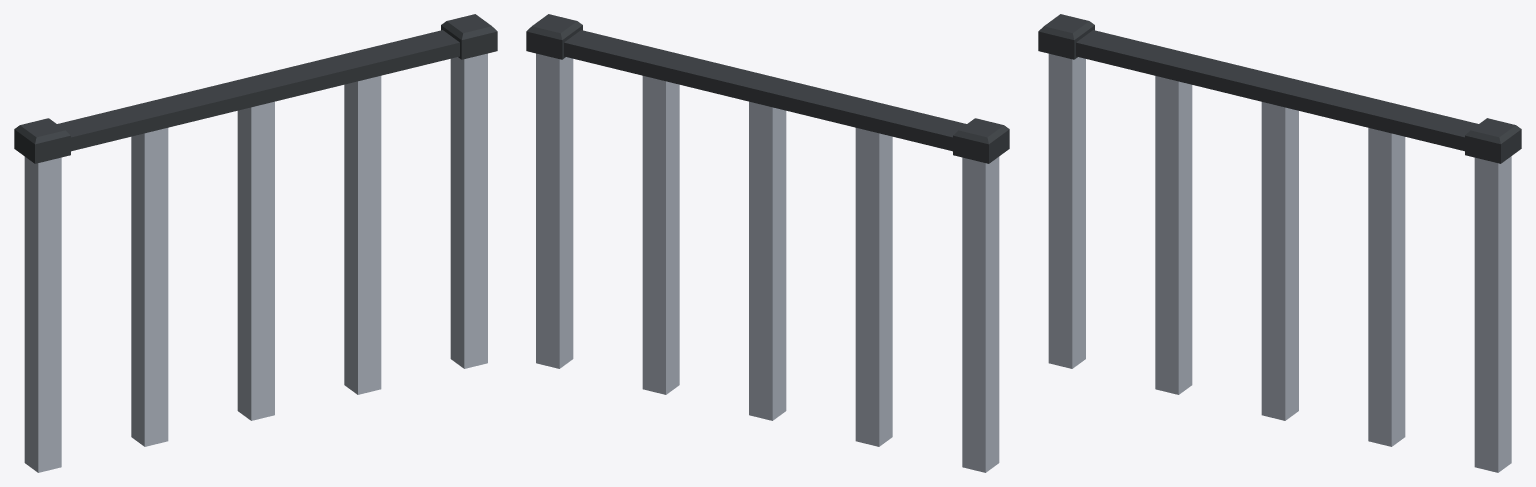
The model's file is StairsPart1_C5.fbx.
3 renders of one model, left to right at view 1: azimuth 30°, elevation 25°; view 2: azimuth 150°, elevation 25°; view 3: azimuth 330°, elevation 25°, orthographic.
Parts seen in each view (by area): view 1: StairsPart1_C5; view 2: StairsPart1_C5; view 3: StairsPart1_C5.
Part boxes in pixels (left/top/right/bottom): StairsPart1_C5: left=14, top=14, right=497, bottom=472; StairsPart1_C5: left=526, top=14, right=1009, bottom=472; StairsPart1_C5: left=1038, top=14, right=1521, bottom=472.
Bounding box in the file's own units: 142 × 98.99 × 11.02.
